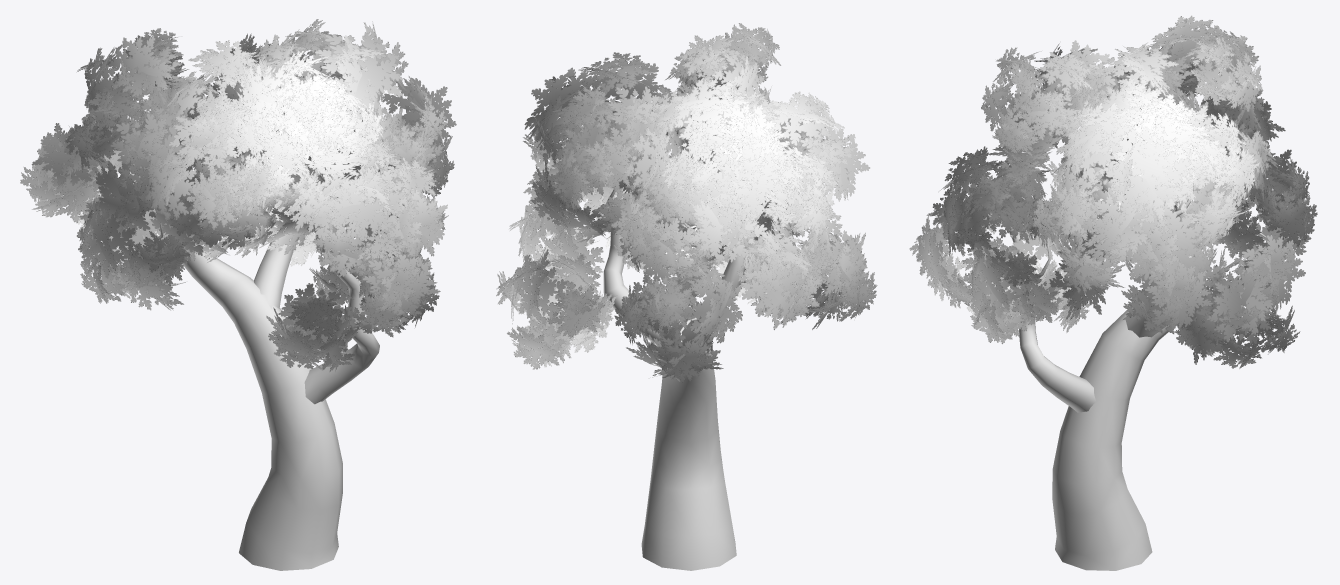
File: tree_02.fbx
The picture shows the model from 3 angles, left to right: view 1: azimuth 30°, elevation 25°; view 2: azimuth 150°, elevation 25°; view 3: azimuth 270°, elevation 25°; orthographic projection. The views are drawn at different scales.
Visible parts, largest first — view 1: halve cirkel.024, default curve.010; view 2: halve cirkel.024, default curve.010; view 3: halve cirkel.024, default curve.010.
Boxes of the visible parts, <box> form: halve cirkel.024: <box>20,19,456,371</box>; default curve.010: <box>154,75,383,570</box>; halve cirkel.024: <box>496,23,877,383</box>; default curve.010: <box>591,114,795,570</box>; halve cirkel.024: <box>909,15,1317,368</box>; default curve.010: <box>981,182,1266,570</box>.
Size of the model in its own units: 860 by 1142 by 868.
